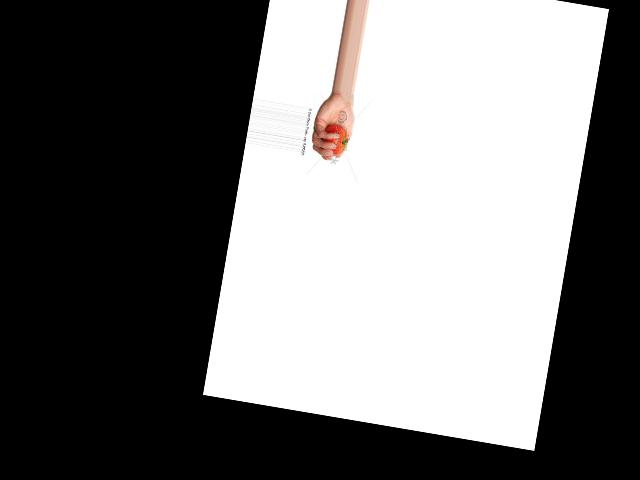tomato: (319, 124, 349, 157)
